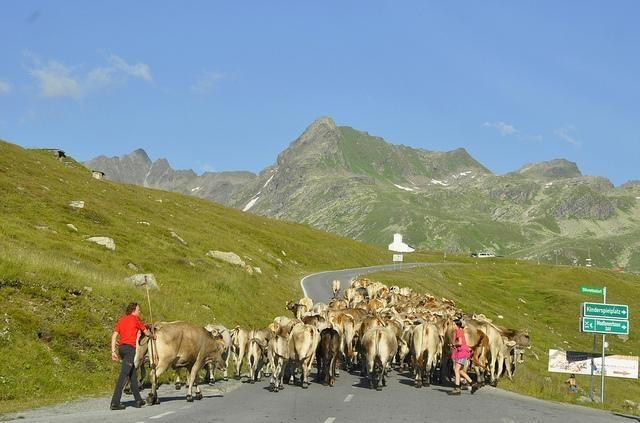car: (477, 252, 488, 258), (470, 253, 477, 257)
truck: (476, 253, 494, 258)
